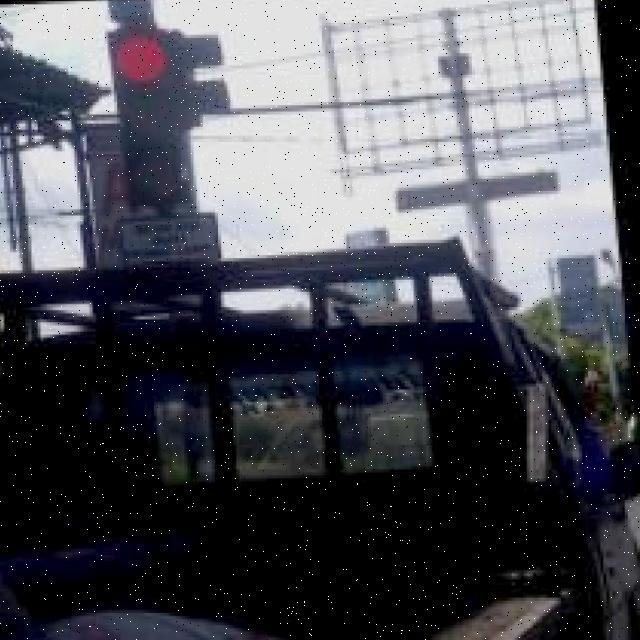Lampu Merah: (115, 15, 198, 202)
